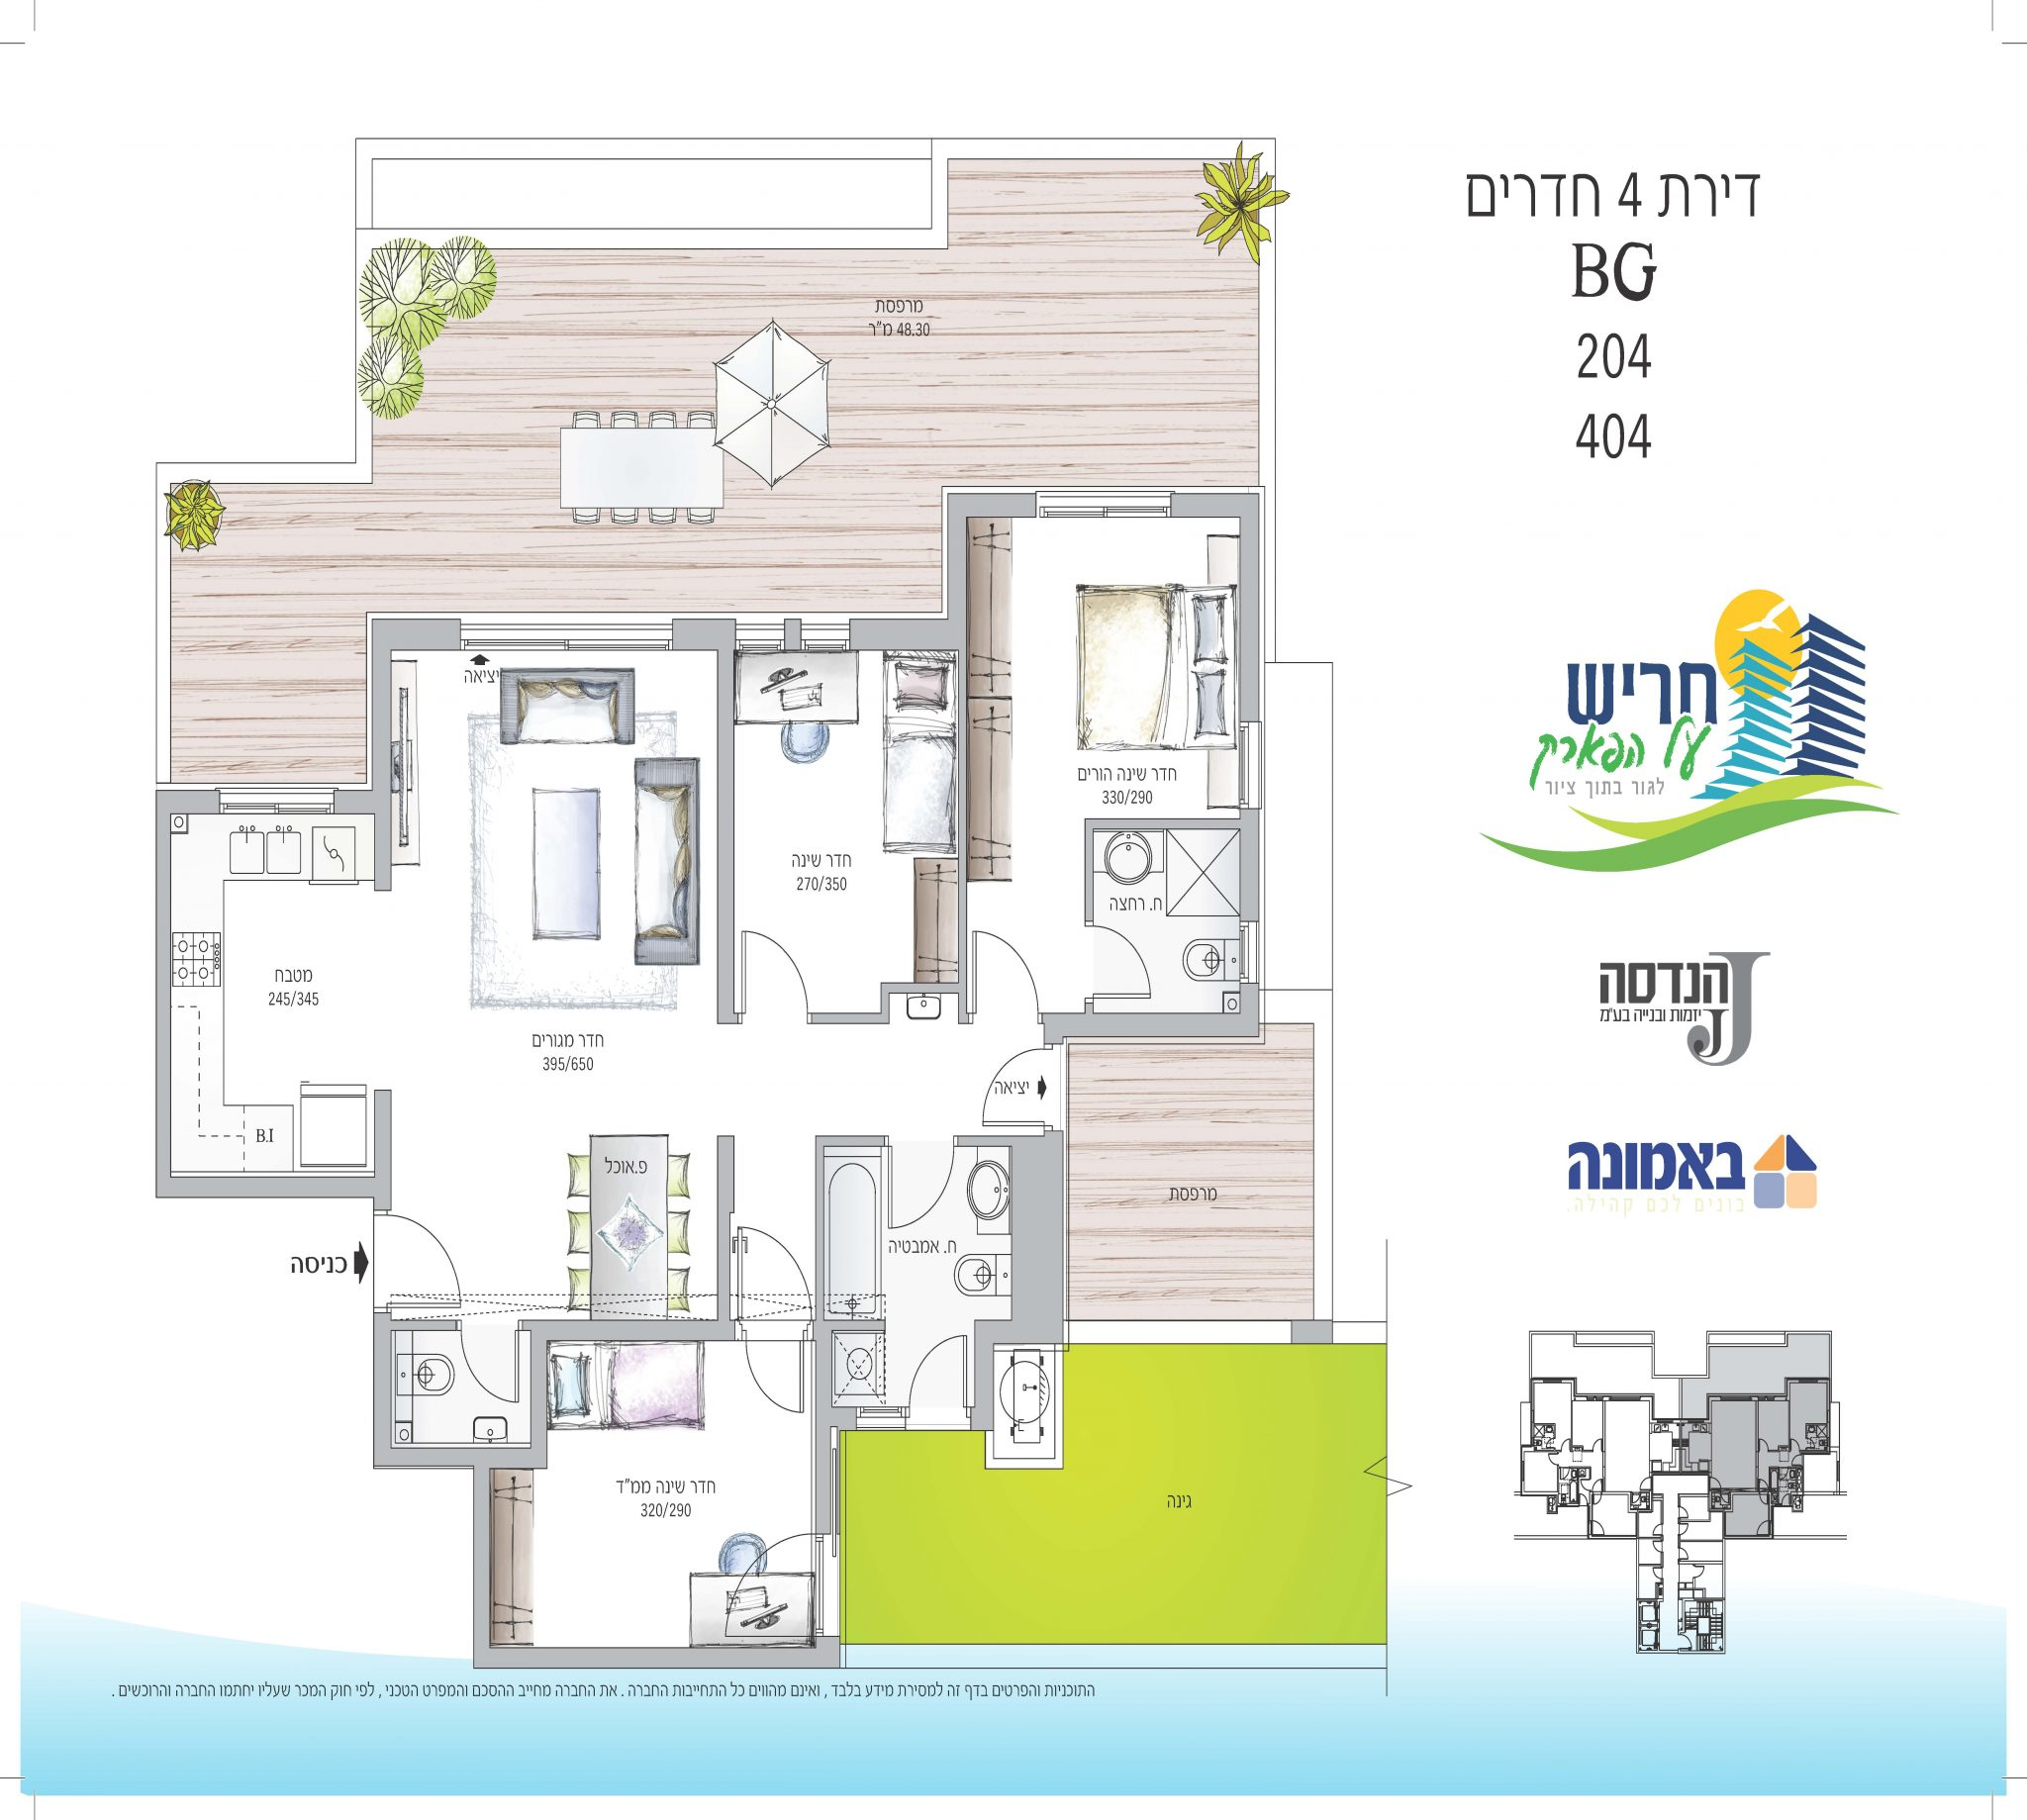door: (734, 921, 810, 1005), (885, 1154, 956, 1237), (968, 924, 1038, 1007), (1096, 917, 1166, 1000), (899, 1321, 970, 1402), (455, 1335, 529, 1409), (732, 1342, 806, 1416)
